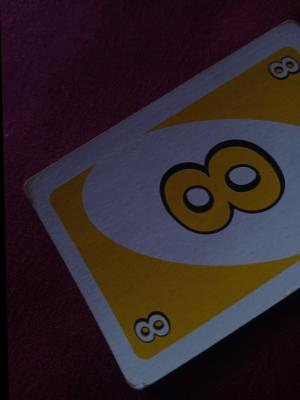num_8: (144, 120, 300, 262), (128, 291, 199, 350)
yellow: (259, 46, 299, 101)
